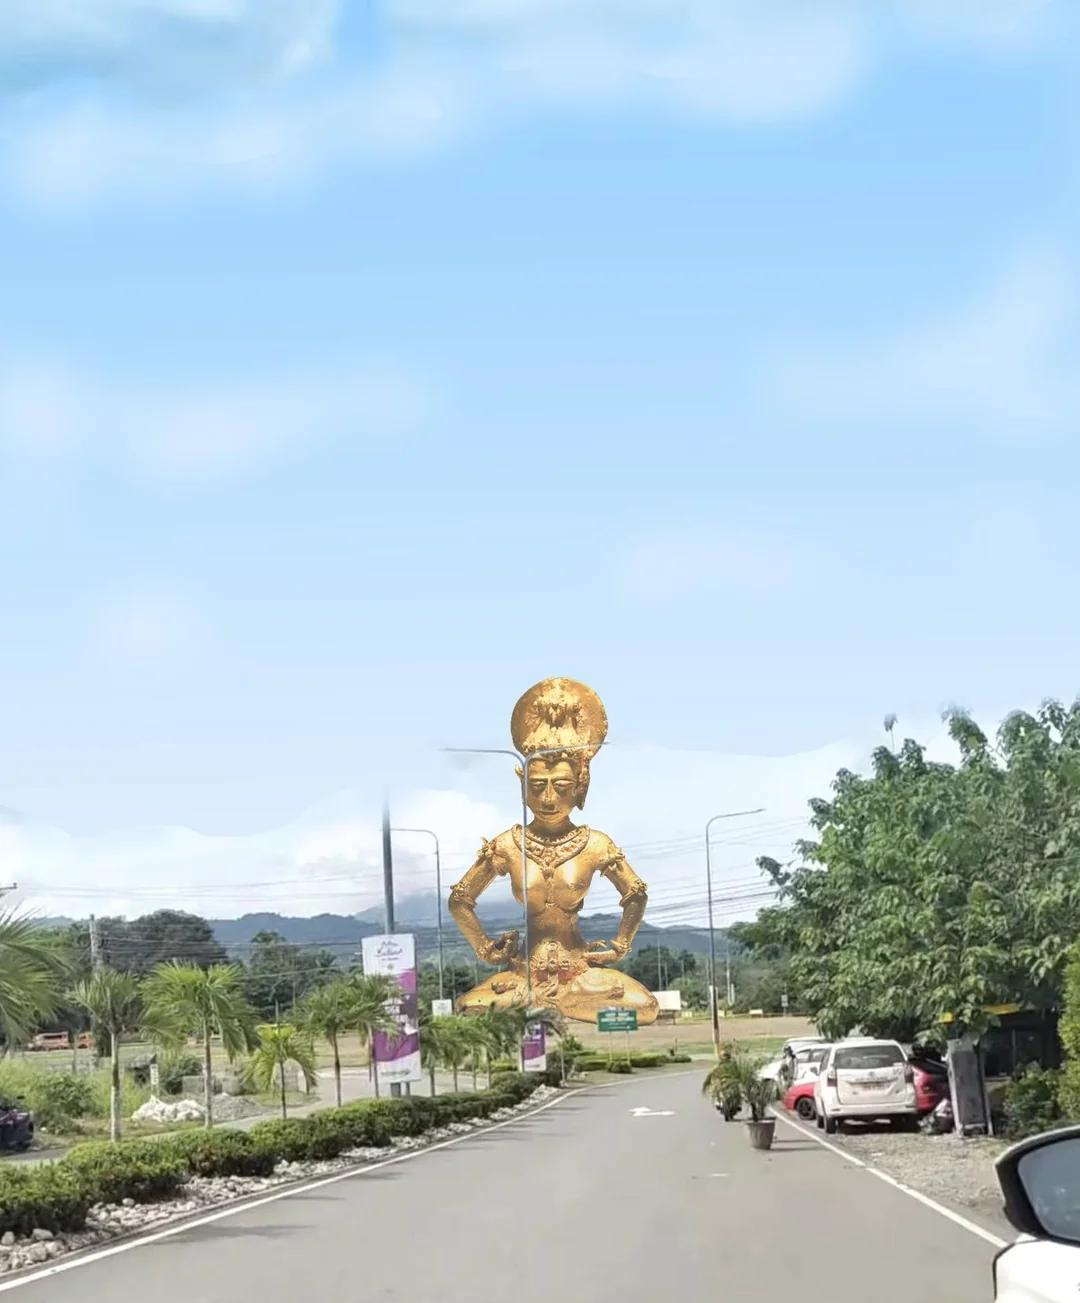golden_tara_of_agusan: (430, 672, 660, 1026)
